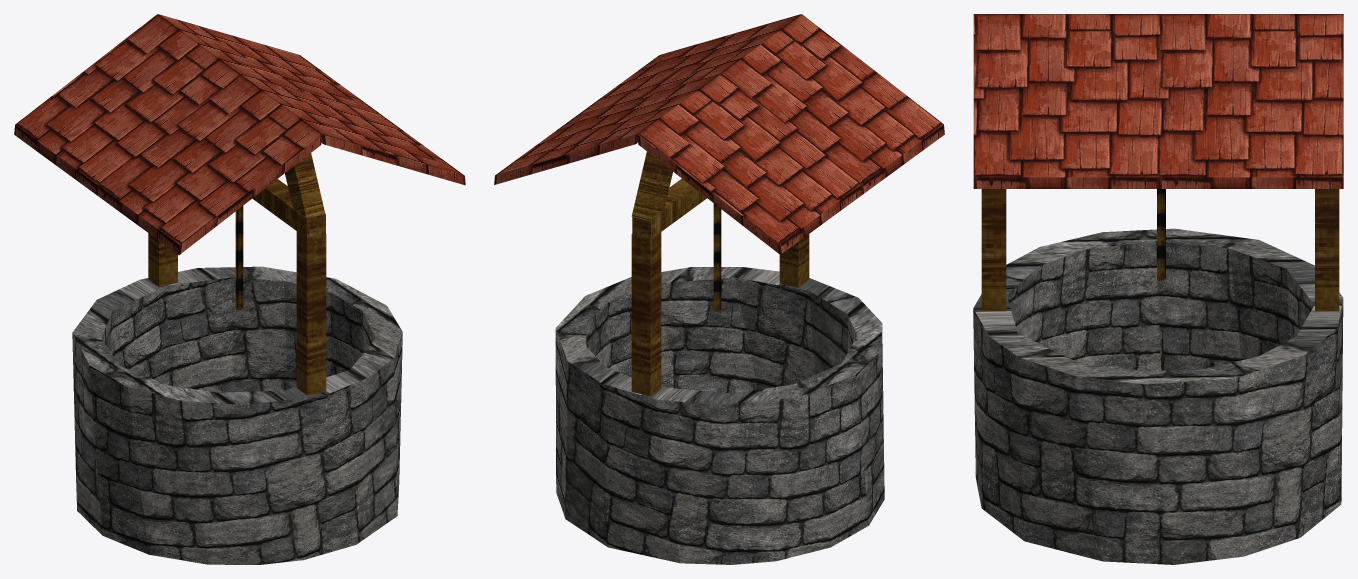
File: well.glb
3 views of the same model, side by side, from view 1: azimuth 30°, elevation 25°; view 2: azimuth 150°, elevation 25°; view 3: azimuth 270°, elevation 25° (orthographic). The views are drawn at different scales.
Visible parts, largest first — view 1: Cube.002; view 2: Cube.002; view 3: Cube.002.
Part boxes in pixels (x1,y1,x2,y2): Cube.002: [14, 14, 465, 564]; Cube.002: [494, 14, 944, 564]; Cube.002: [973, 14, 1343, 564].
Size of the model in its own units: 2.01 by 2.82 by 2.
Materials: 6 (6 with a texture image).
